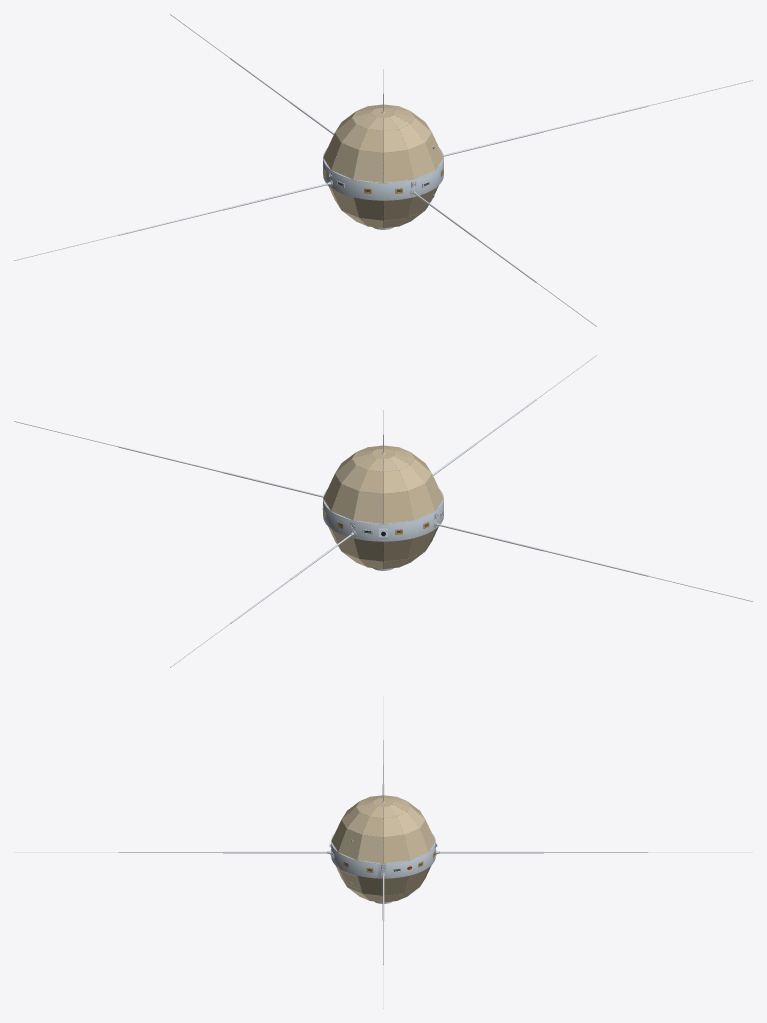
File: dongfanghong1_v10_meters.glb
3 renders of one model, top to bottom at view 1: azimuth 30°, elevation 25°; view 2: azimuth 150°, elevation 25°; view 3: azimuth 270°, elevation 25°, orthographic. The views are drawn at different scales.
Visible parts, largest first — view 1: 上壳_36块面板, 下壳_36块面板, 连续环形腰带; view 2: 上壳_36块面板, 下壳_36块面板, 连续环形腰带; view 3: 上壳_36块面板, 下壳_36块面板, 连续环形腰带.
Part boxes in pixels (box(x1,y1,x2,y2)): 上壳_36块面板: box(323, 104, 443, 182); 下壳_36块面板: box(328, 186, 438, 228); 连续环形腰带: box(323, 158, 443, 200); 上壳_36块面板: box(323, 445, 443, 523); 下壳_36块面板: box(328, 526, 438, 569); 连续环形腰带: box(323, 499, 443, 541); 上壳_36块面板: box(331, 795, 435, 863); 下壳_36块面板: box(335, 865, 431, 902); 连续环形腰带: box(331, 844, 435, 878).
Bounding box in the file's own units: 7.07 × 1.43 × 7.07.
Materials: 19 (2 with a texture image).
